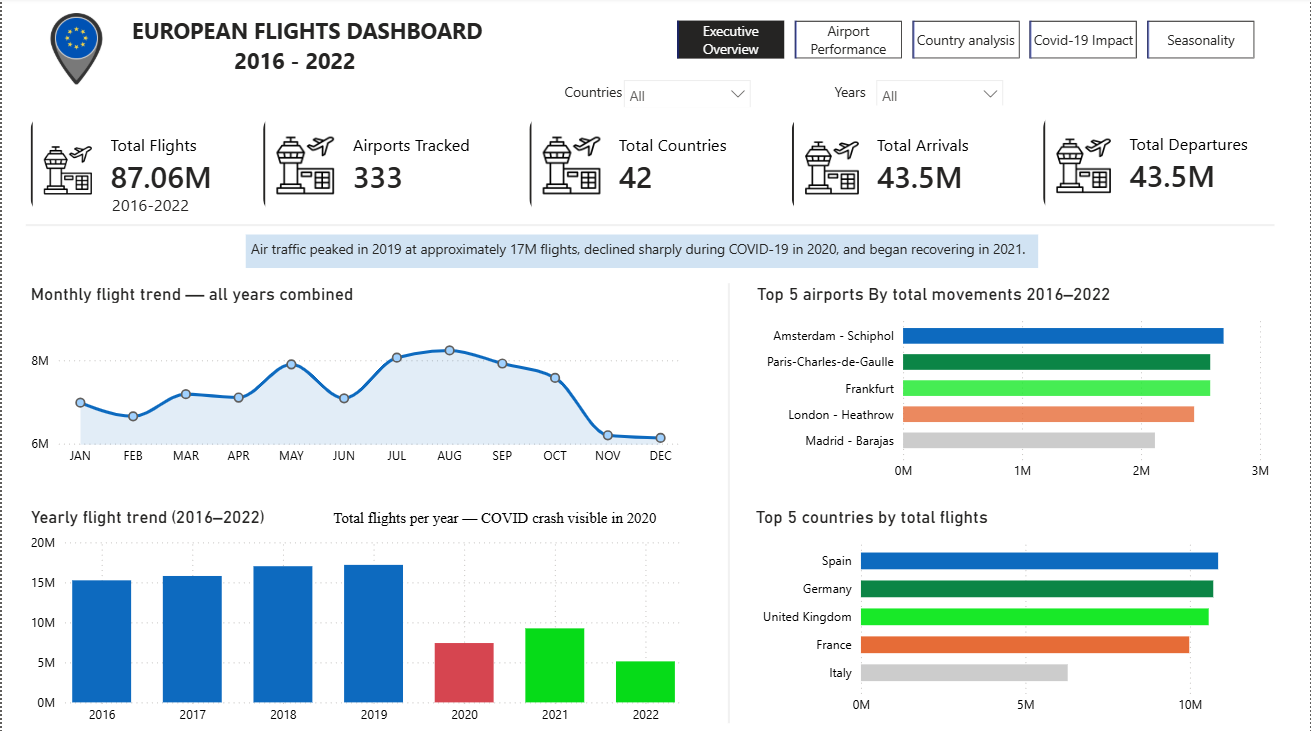

Layout of this report page (visuals, bound fields, positions):
{"tool":"powerbi","page":{"name":"Executive Overview","canvas":[1280,720],"ordinal":0},"visuals":[{"type":"cardVisual","fields":{"Data":["All Measures.Total Aiports"]},"box":[251,108.2,240.1,112.5],"z":0},{"type":"cardVisual","fields":{"Data":["All Measures.Total Countries"]},"box":[511.1,107.6,239.7,112.5],"z":1000},{"type":"cardVisual","fields":{"Data":["All Measures.Total Flights"]},"box":[23.2,108.2,209.9,112.5],"z":2000},{"type":"textbox","box":[102.7,187.1,111.3,33],"z":3000},{"type":"cardVisual","fields":{"Data":["All Measures.Total Arrivals"]},"box":[767.9,107.6,225,112.5],"z":4000},{"type":"cardVisual","fields":{"Data":["All Measures.Total Departures"]},"box":[1013.7,106.4,229.9,112.5],"z":5000},{"type":"textbox","box":[122.3,13.5,360.7,92.9],"z":6000},{"type":"image","box":[23.2,13.5,99,74.6],"z":7000},{"type":"clusteredColumnChart","title":"Yearly flight trend (2016–2022)","fields":{"Y":["All Measures.Total Flights"],"Category":["European Flights.YEAR"]},"box":[23.2,498.9,646.9,221.3],"z":8000},{"type":"lineChart","title":"Monthly flight trend — all years combined","fields":{"Y":["All Measures.Total Flights"],"Category":["European Flights.MONTH_MON"]},"box":[23.2,280,646.9,187.1],"z":9000},{"type":"barChart","title":"Top 5 countries by total flights","fields":{"Y":["All Measures.Total Flights"],"Category":["European Flights.STATE_NAME"]},"box":[732.5,498.9,511.1,211.6],"z":10000},{"type":"clusteredBarChart","title":"Top 5 airports By total movements 2016–2022","fields":{"Category":["European Flights.APT_NAME"],"Y":["All Measures.Total Flights"]},"box":[733.7,280,511.1,201.8],"z":11000},{"type":"shape","box":[23.2,214,1221.6,18.3],"z":12000},{"type":"shape","box":[688.5,280,45.2,430.4],"z":13000},{"type":"textbox","box":[319.2,495.2,351,33],"z":14000},{"type":"slicer","fields":{"Values":["European Flights.STATE_NAME"]},"box":[598,70.9,144.3,36.7],"z":15000},{"type":"textbox","box":[545.4,78.3,68.5,35.5],"z":16000},{"type":"slicer","fields":{"Values":["European Flights.YEAR"]},"box":[845,70.9,144.3,35.5],"z":17000},{"type":"textbox","box":[809.5,78.3,69.7,29.3],"z":18000},{"type":"textbox","box":[238.5,232.3,775.3,33],"z":19000},{"type":"actionButton","box":[658.7,23.3,140,39.8],"z":20000},{"type":"actionButton","box":[798.6,20.6,140,39.8],"z":21000},{"type":"actionButton","box":[946.8,20.6,140,39.8],"z":22000},{"type":"actionButton","box":[1086.8,20.6,140,39.8],"z":23000},{"type":"pageNavigator","box":[659.9,22.9,567,37.4],"z":24000},{"type":"actionButton","box":[658.7,22.9,106.2,39.8],"z":25000},{"type":"actionButton","box":[778.2,20.5,103.8,39.8],"z":26000},{"type":"actionButton","box":[956.8,30.6,140,39.8],"z":27000},{"type":"actionButton","box":[891.6,22.9,103.8,39.8],"z":29000},{"type":"actionButton","box":[1002.6,20.5,103.8,39.8],"z":30000},{"type":"actionButton","box":[1120.8,20.5,103.8,39.8],"z":31000}]}

Visuals, with their boxes in screenshot pixels (x1, y1, x2, y2), scaled from the page's 1280x720 canvas onto the 1311x731 screenshot:
cardVisual - All Measures.Total Aiports: Rect(257, 110, 503, 224)
cardVisual - All Measures.Total Countries: Rect(523, 109, 769, 223)
cardVisual - All Measures.Total Flights: Rect(24, 110, 239, 224)
textbox: Rect(105, 190, 219, 223)
cardVisual - All Measures.Total Arrivals: Rect(786, 109, 1017, 223)
cardVisual - All Measures.Total Departures: Rect(1038, 108, 1274, 222)
textbox: Rect(125, 14, 495, 108)
image: Rect(24, 14, 125, 89)
"Yearly flight trend (2016–2022)" clusteredColumnChart: Rect(24, 507, 686, 730)
"Monthly flight trend — all years combined" lineChart: Rect(24, 284, 686, 474)
"Top 5 countries by total flights" barChart: Rect(750, 507, 1274, 721)
"Top 5 airports By total movements 2016–2022" clusteredBarChart: Rect(751, 284, 1275, 489)
shape: Rect(24, 217, 1275, 236)
shape: Rect(705, 284, 751, 721)
textbox: Rect(327, 503, 686, 536)
slicer - European Flights.STATE_NAME: Rect(612, 72, 760, 109)
textbox: Rect(559, 79, 629, 116)
slicer - European Flights.YEAR: Rect(865, 72, 1013, 108)
textbox: Rect(829, 79, 900, 109)
textbox: Rect(244, 236, 1038, 269)
actionButton: Rect(675, 24, 818, 64)
actionButton: Rect(818, 21, 961, 61)
actionButton: Rect(970, 21, 1113, 61)
actionButton: Rect(1113, 21, 1257, 61)
pageNavigator: Rect(676, 23, 1257, 61)
actionButton: Rect(675, 23, 783, 64)
actionButton: Rect(797, 21, 903, 61)
actionButton: Rect(980, 31, 1123, 71)
actionButton: Rect(913, 23, 1020, 64)
actionButton: Rect(1027, 21, 1133, 61)
actionButton: Rect(1148, 21, 1254, 61)
